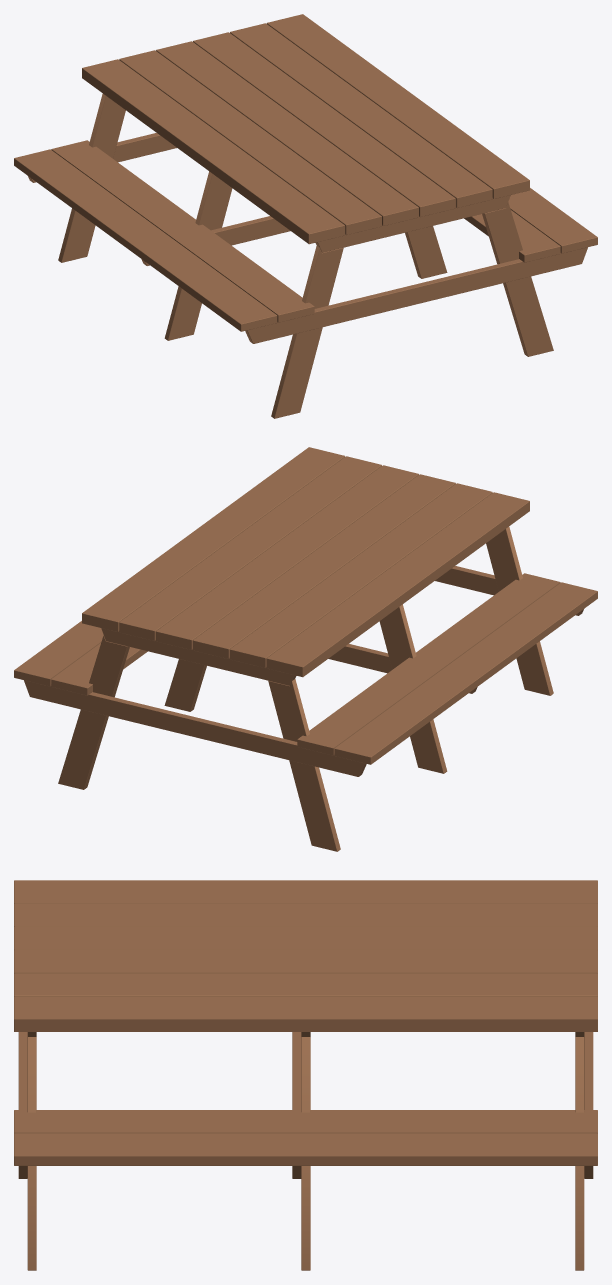
The model's file is 11_bench.fbx.
The picture shows the model from 3 angles, top to bottom: view 1: azimuth 30°, elevation 25°; view 2: azimuth 150°, elevation 25°; view 3: azimuth 270°, elevation 25°; orthographic projection. The views are drawn at different scales.
Parts seen in each view (by area): view 1: Rectangle073; view 2: Rectangle073; view 3: Rectangle073.
Boxes of the visible parts, x1,y1,x2,y2 form: Rectangle073: (14,14,597,418); Rectangle073: (14,447,597,851); Rectangle073: (14,880,597,1270).
Size of the model in its own units: 88.22 by 97.2 by 42.88.
